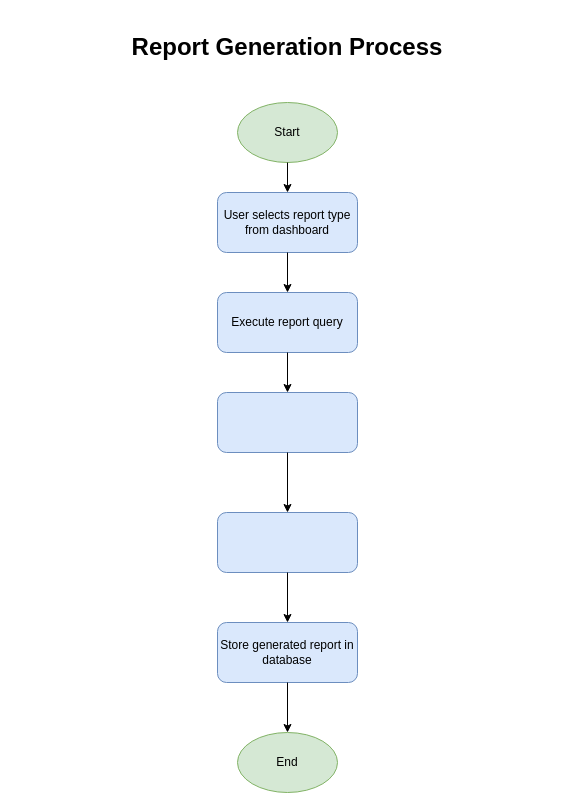
The diagram is 574 pixels wide and 810 high, and some of its shapes have lost their labels. The shapes that lost their labels are listed below. From the top down, each one's centre as x and y in pixels, then its label:
the point at 287,422: Process data and format results
the point at 287,542: Generate PDF document
